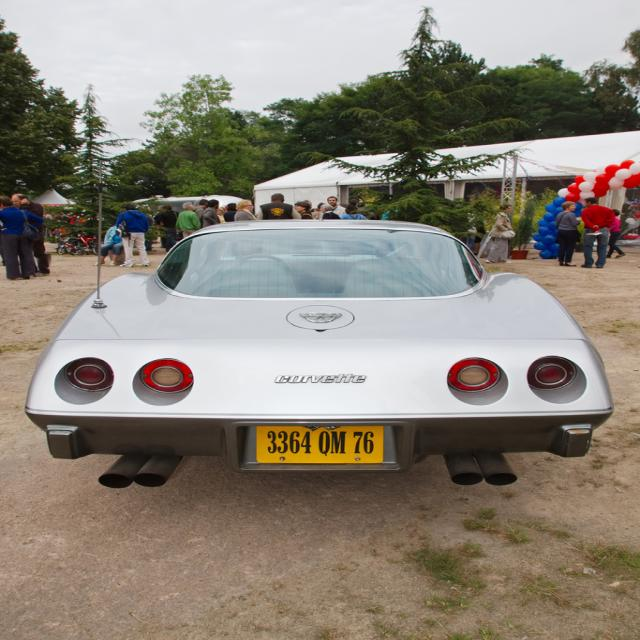car: (10, 215, 631, 510)
